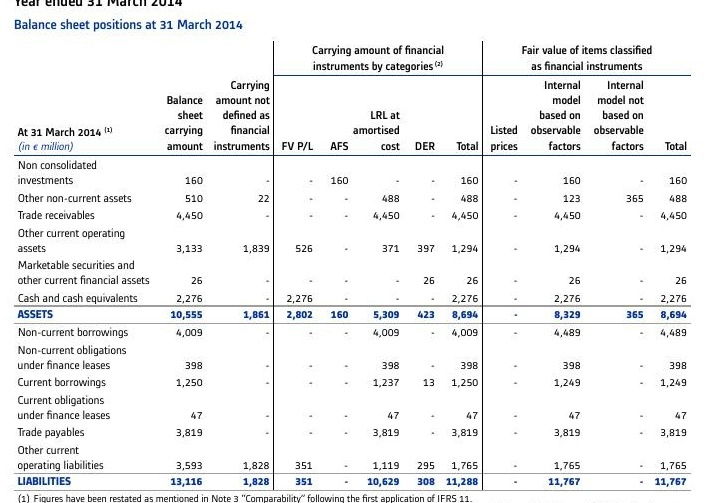table: (0, 0, 710, 503)
